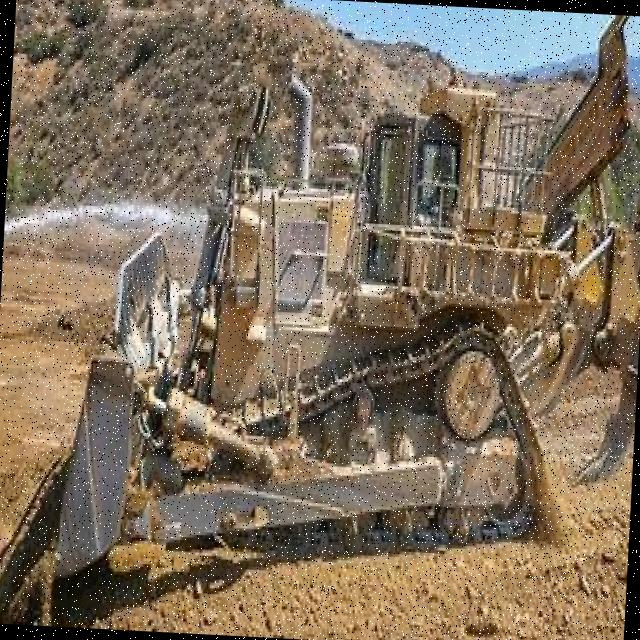Bulldozer: (43, 15, 640, 621)
